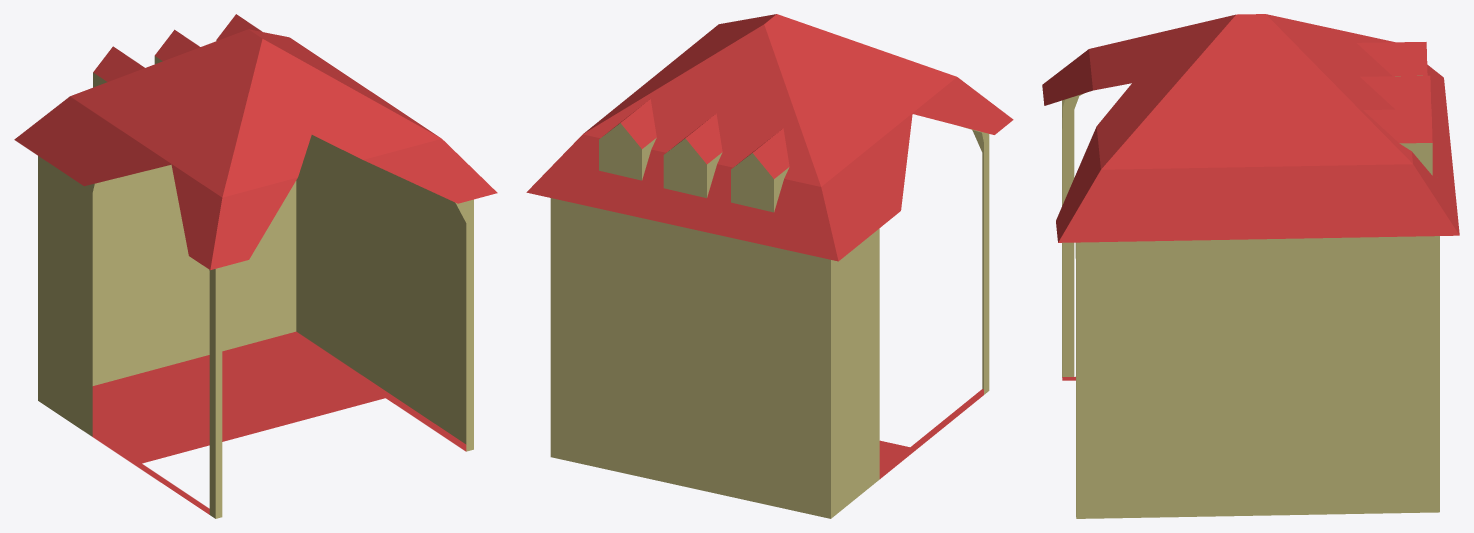
3 renders of one model, left to right at view 1: azimuth 30°, elevation 25°; view 2: azimuth 150°, elevation 25°; view 3: azimuth 270°, elevation 25°, orthographic. The views are drawn at different scales.
Size of the model in its own units: 15.34 by 16.38 by 18.62.
